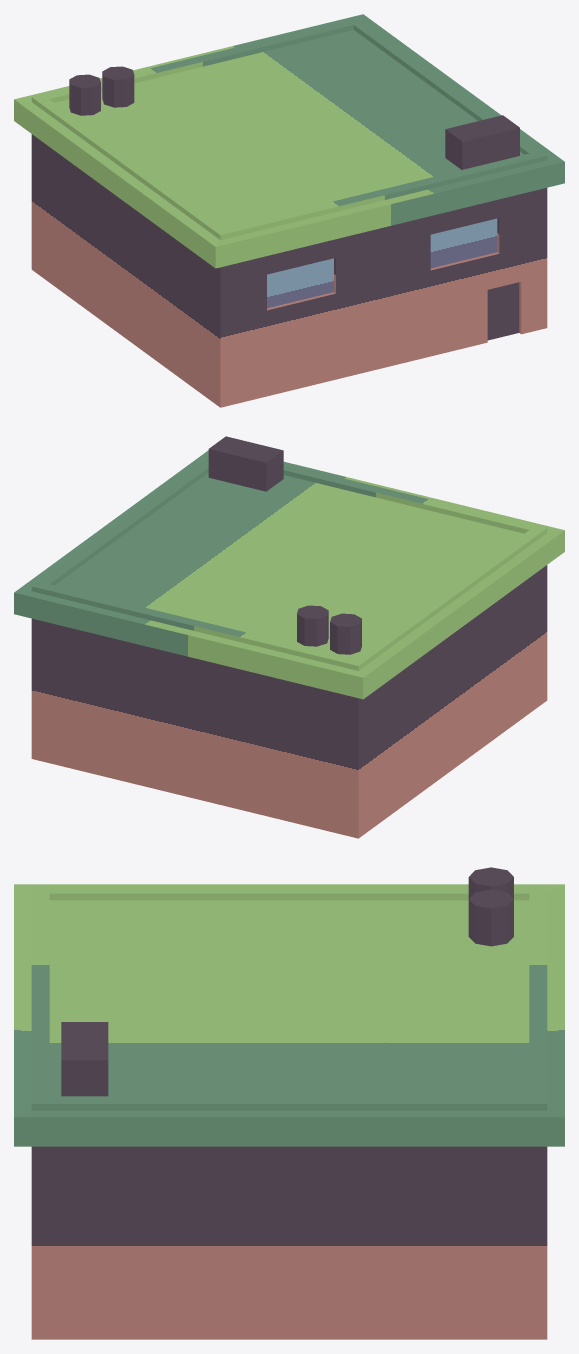
File: Building5-ShortModel.glb
The picture shows the model from 3 angles, top to bottom: view 1: azimuth 30°, elevation 25°; view 2: azimuth 150°, elevation 25°; view 3: azimuth 270°, elevation 25°; orthographic projection. The views are drawn at different scales.
Visible parts, largest first — view 1: Cube.007; view 2: Cube.007; view 3: Cube.007.
Boxes of the visible parts, x1,y1,x2,y2 form: Cube.007: (14, 14, 564, 407); Cube.007: (14, 436, 564, 838); Cube.007: (14, 867, 564, 1339).
Size of the model in its own units: 5.34 by 2.87 by 5.34.
Materials: 1 (1 with a texture image).
